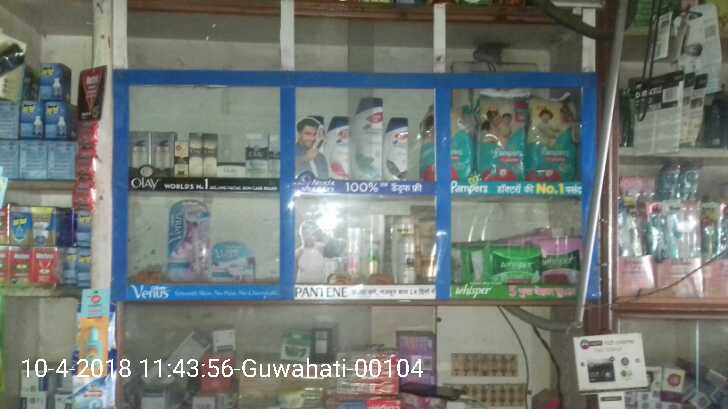venus: (164, 197, 210, 280), (212, 242, 255, 282)
